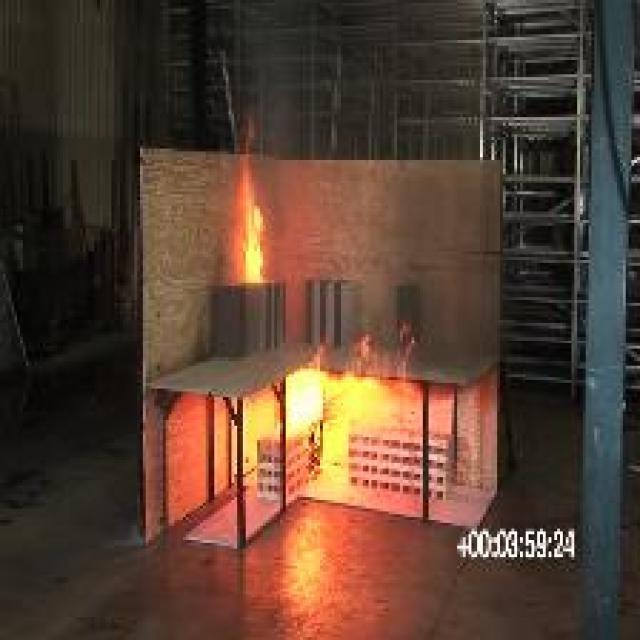Fire: (288, 326, 418, 466), (238, 112, 264, 282)
